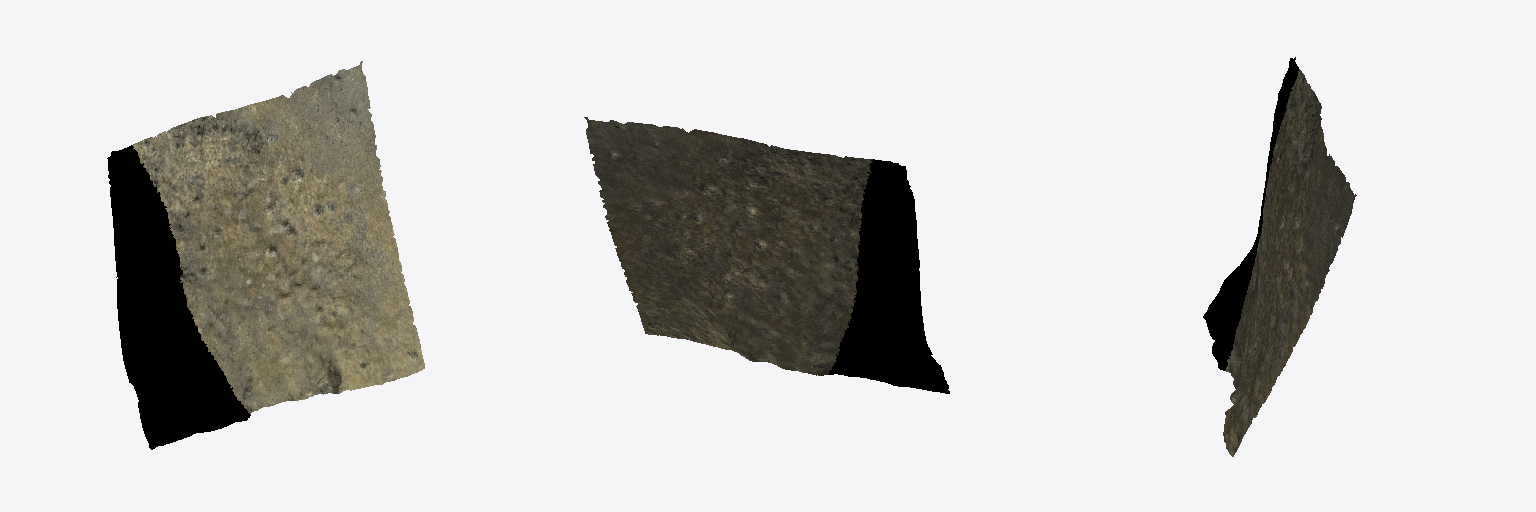
3 views of the same model, side by side, from view 1: azimuth 30°, elevation 25°; view 2: azimuth 150°, elevation 25°; view 3: azimuth 270°, elevation 25° (orthographic).
Size of the model in its own units: 1.97 by 1.7 by 0.8965.
1 materials, 1 textured.